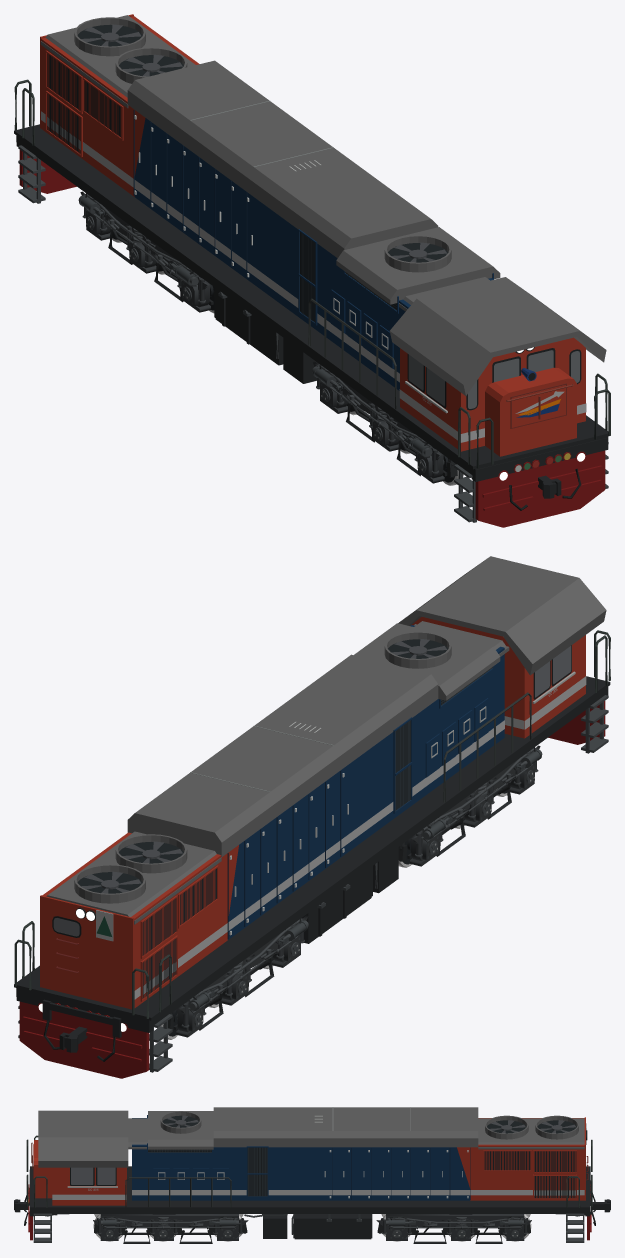
File: cc205-rebuild-high-packed.glb
The picture shows the model from 3 angles, top to bottom: view 1: azimuth 30°, elevation 25°; view 2: azimuth 150°, elevation 25°; view 3: azimuth 270°, elevation 25°; orthographic projection. The views are drawn at different scales.
Visible parts, largest first — view 1: locomotive-body, rail-bogie-1, rail-bogie--1; view 2: locomotive-body, rail-bogie-1, rail-bogie--1; view 3: locomotive-body, rail-bogie-1, rail-bogie--1.
Part boxes in pixels (box(x1,y1,x2,y2)): locomotive-body: box(14, 14, 610, 527); rail-bogie-1: box(312, 361, 457, 483); rail-bogie--1: box(78, 191, 214, 312); locomotive-body: box(14, 556, 610, 1078); rail-bogie-1: box(398, 745, 542, 866); rail-bogie--1: box(163, 915, 308, 1037); locomotive-body: box(24, 1107, 595, 1242); rail-bogie-1: box(93, 1214, 248, 1243); rail-bogie--1: box(376, 1214, 531, 1243).
Bounding box in the file's own units: 2.86 × 3.56 × 16.93.
